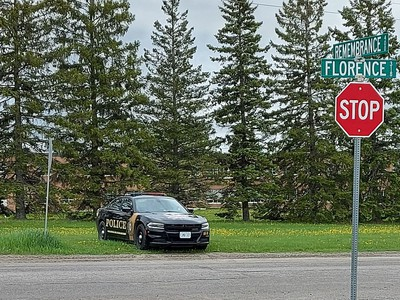stop: (336, 84, 383, 136)
